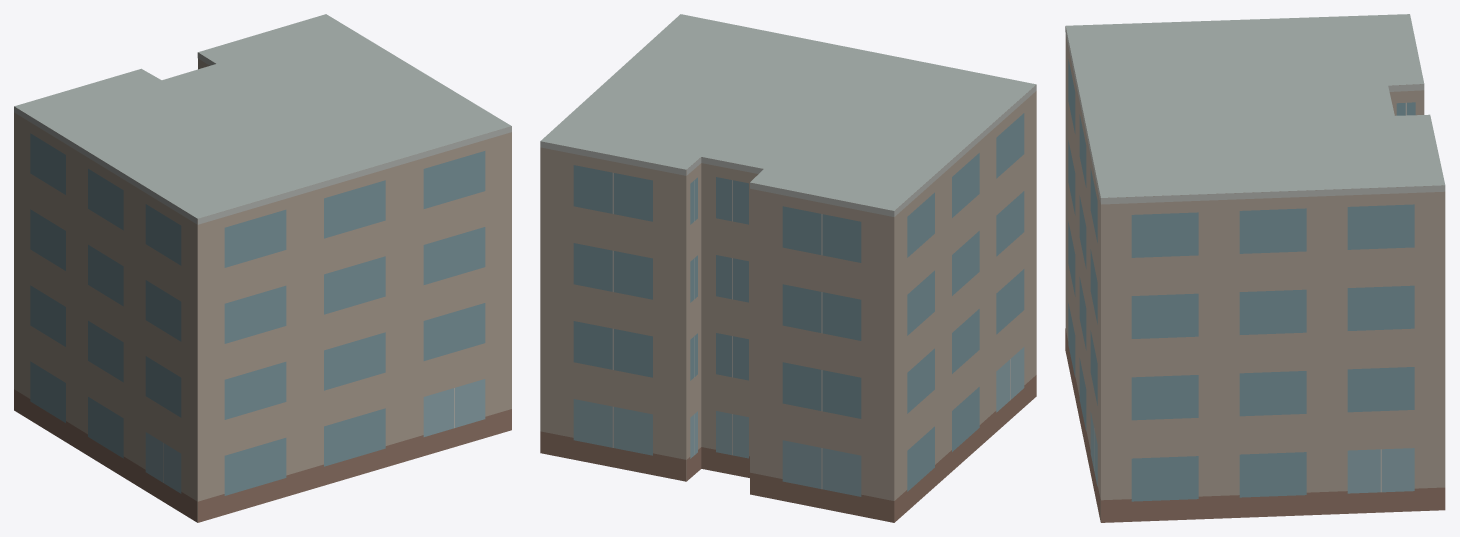
The model's file is survey-upis-32610807.glb.
3 views of the same model, side by side, from view 1: azimuth 30°, elevation 25°; view 2: azimuth 150°, elevation 25°; view 3: azimuth 270°, elevation 25° (orthographic). The views are drawn at different scales.
Parts seen in each view (by area): view 1: survey-upis-32610807.tmp; view 2: survey-upis-32610807.tmp; view 3: survey-upis-32610807.tmp.
Boxes of the visible parts, left/top/right/bottom form: survey-upis-32610807.tmp: left=14, top=14, right=511, bottom=522; survey-upis-32610807.tmp: left=540, top=14, right=1036, bottom=522; survey-upis-32610807.tmp: left=1065, top=14, right=1445, bottom=522.
Size of the model in its own units: 14.96 by 12.3 by 13.05.
